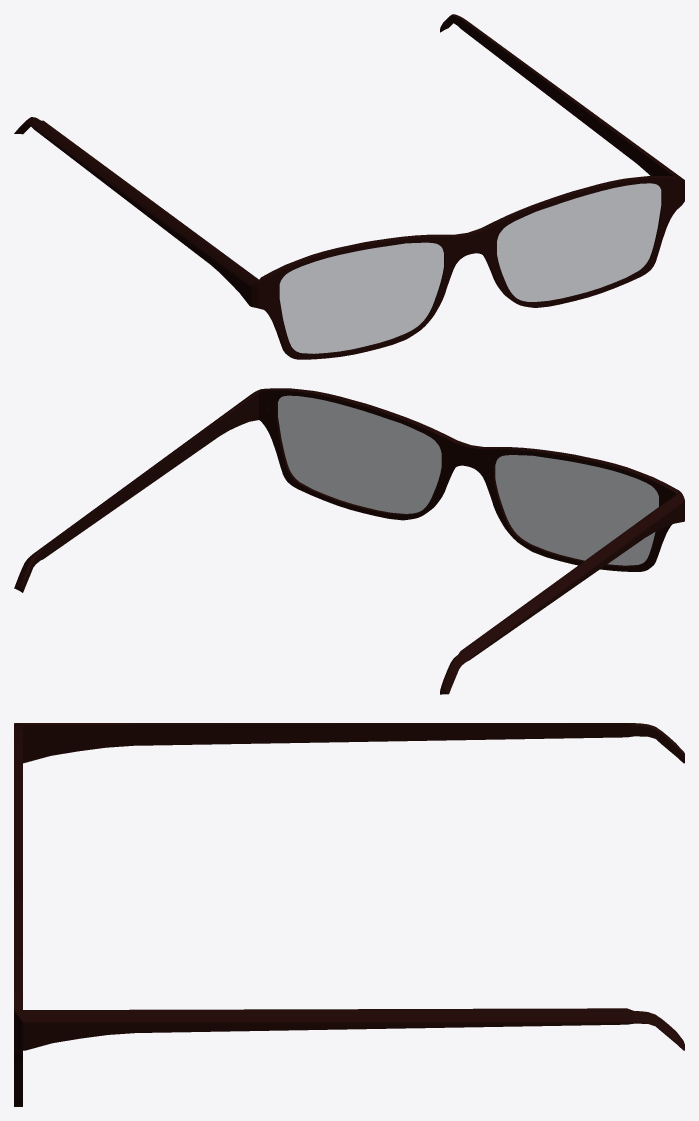
File: 1_sun_glasses.glb
3 renders of one model, top to bottom at view 1: azimuth 30°, elevation 25°; view 2: azimuth 150°, elevation 25°; view 3: azimuth 270°, elevation 25°, orthographic. The views are drawn at different scales.
Visible parts, largest first — view 1: cerceve.001; view 2: cerceve.001; view 3: cerceve.001.
Part boxes in pixels (x1=…): cerceve.001: x1=14, y1=14, x2=684, y2=359; cerceve.001: x1=14, y1=388, x2=684, y2=694; cerceve.001: x1=14, y1=723, x2=684, y2=1106.
Bounding box in the file's own units: 4.19 × 0.9928 × 4.
